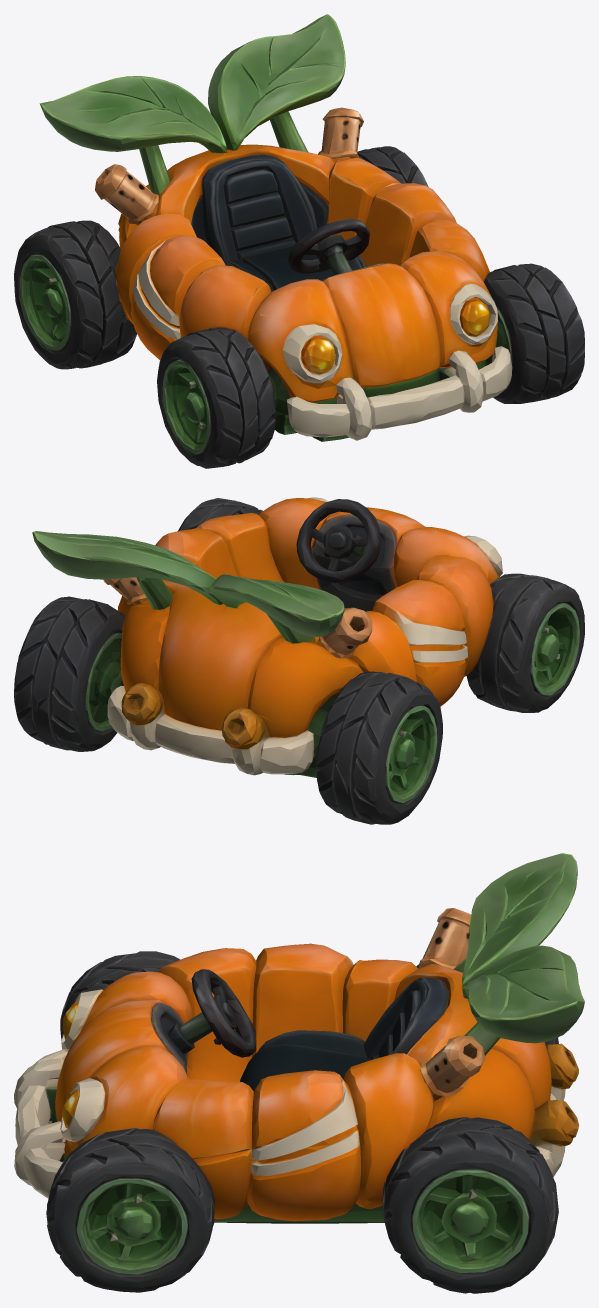
File: pumpkin-capybara-kart-raw.glb
3 renders of one model, top to bottom at view 1: azimuth 30°, elevation 25°; view 2: azimuth 150°, elevation 25°; view 3: azimuth 270°, elevation 25°, orthographic. The views are drawn at different scales.
Visible parts, largest first — view 1: model; view 2: model; view 3: model.
Boxes of the visible parts, x1,y1,x2,y2 form: model: (14,14,584,468); model: (14,497,584,824); model: (14,853,584,1293).
Bounding box in the file's own units: 1.63 × 1.03 × 1.9.
1 material, 1 textured.
